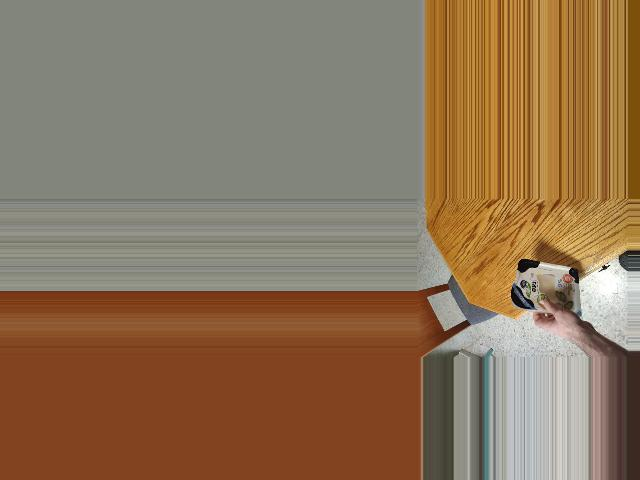cheese: (508, 261, 596, 314)
